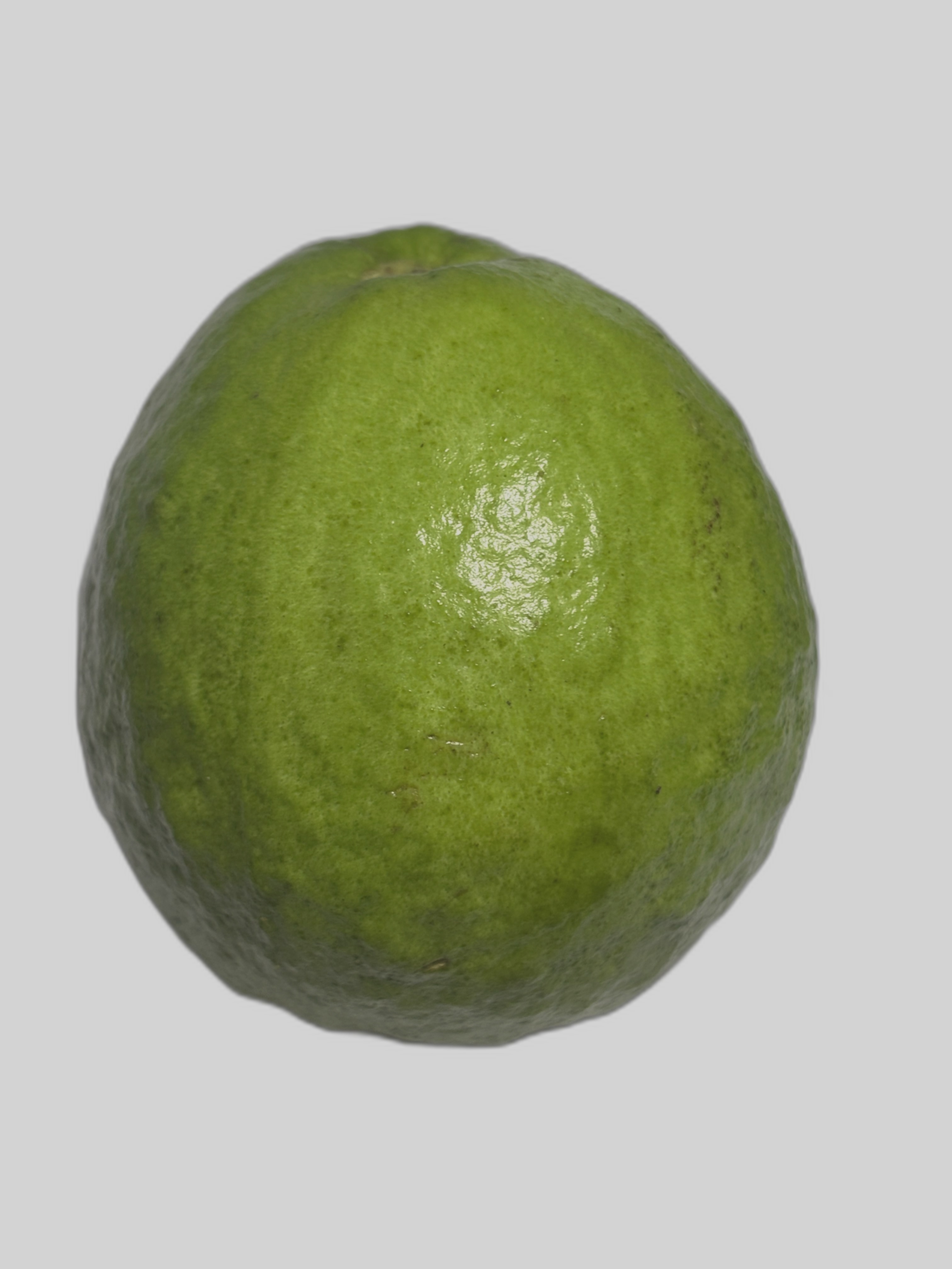guava: (190, 228, 918, 1101)
